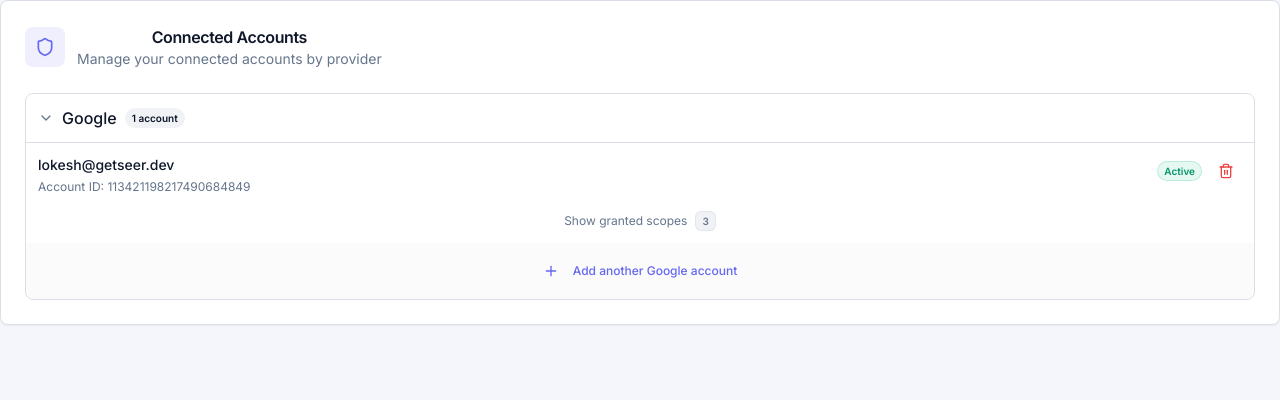
Test case: GroupedConnectionsCard › renders formatted scope chips after expanding the scope section
Check: the text "lokesh@getseer.dev" is shown, box [38,155,174,175]
Check: the text "Email" is not shown
What coordinates should you click on to do the following:
click the button "Show granted scopes 3"
I would click on:
 (640, 221)
Its box is [564,211,716,231].
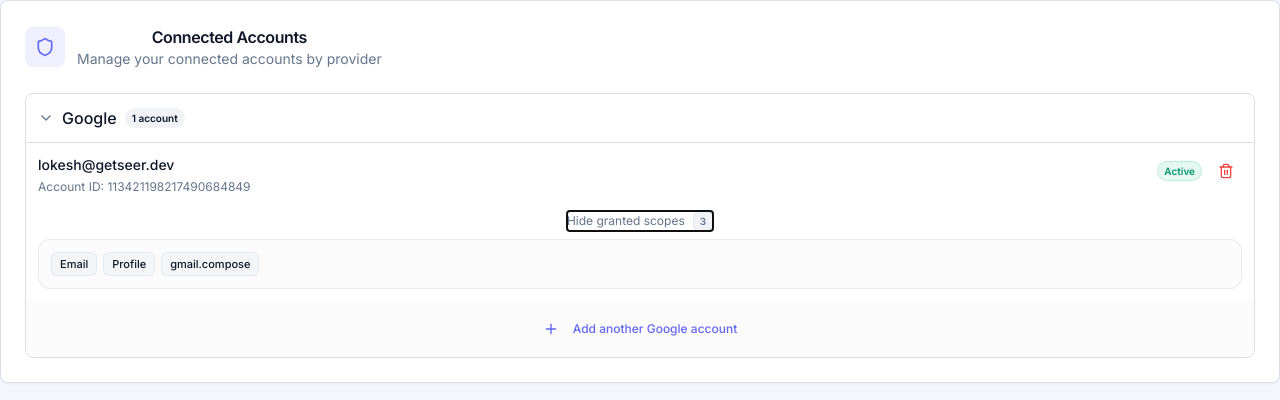
Check: the text "Email" is shown, box [51,252,97,276]
Check: the text "Profile" is shown, box [103,252,155,276]
Check: the text "gmail.compose" is shown, box [161,252,260,276]
